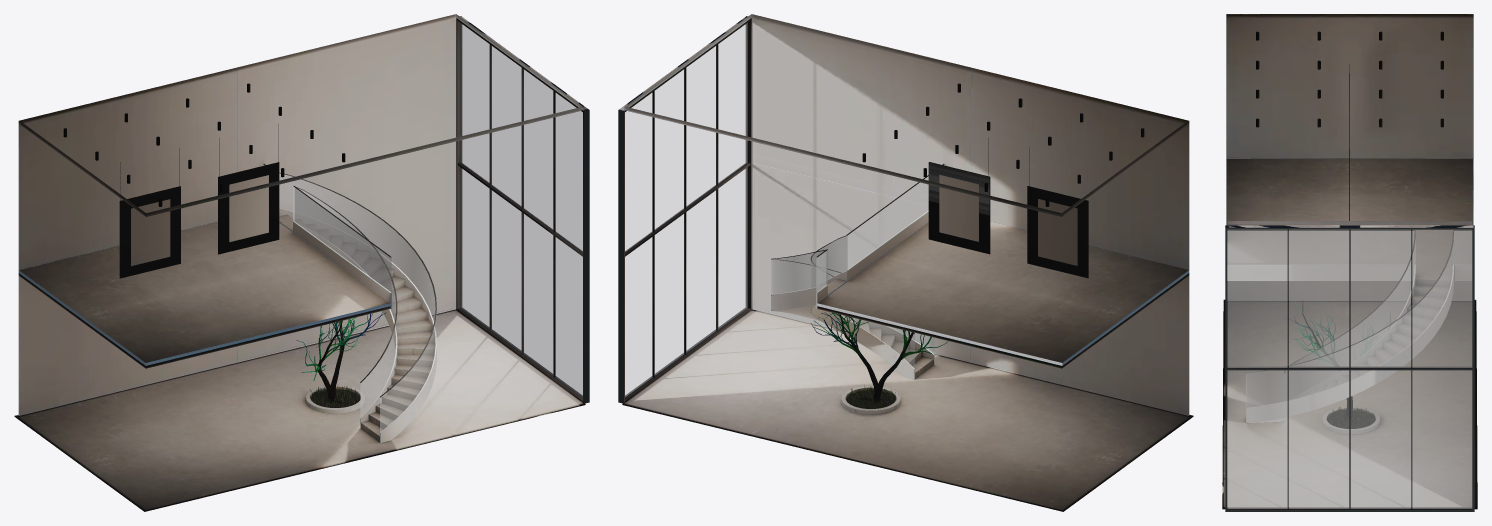
The model's file is Virtual Gallery.gltf.
3 views of the same model, side by side, from view 1: azimuth 30°, elevation 25°; view 2: azimuth 150°, elevation 25°; view 3: azimuth 270°, elevation 25° (orthographic). The views are drawn at different scales.
Visible parts, largest first — view 1: walls, floor, glass, stairs, steel, paintings, tree; view 2: walls, floor, glass, steel, paintings, stairs, tree; view 3: glass, floor, walls, stairs, steel, tree.
Part boxes in pixels (<box>): walls: <box>14,14,583,416</box>; floor: <box>15,221,585,511</box>; glass: <box>279,23,582,432</box>; stairs: <box>279,208,436,442</box>; steel: <box>63,16,589,403</box>; paintings: <box>119,123,279,278</box>; tree: <box>296,312,386,403</box>; walls: <box>624,14,1193,416</box>; floor: <box>622,221,1192,511</box>; glass: <box>625,23,934,397</box>; steel: <box>618,16,1144,403</box>; paintings: <box>928,138,1088,278</box>; stairs: <box>771,211,934,379</box>; tree: <box>811,312,948,403</box>; glass: <box>1227,229,1472,508</box>; floor: <box>1222,159,1477,509</box>; walls: <box>1222,14,1477,482</box>; stairs: <box>1227,265,1472,423</box>; steel: <box>1225,31,1474,511</box>; tree: <box>1289,300,1390,423</box>.
Bounding box in the file's own units: 12.15 × 7.93 × 6.2.
7 materials, 6 textured.
